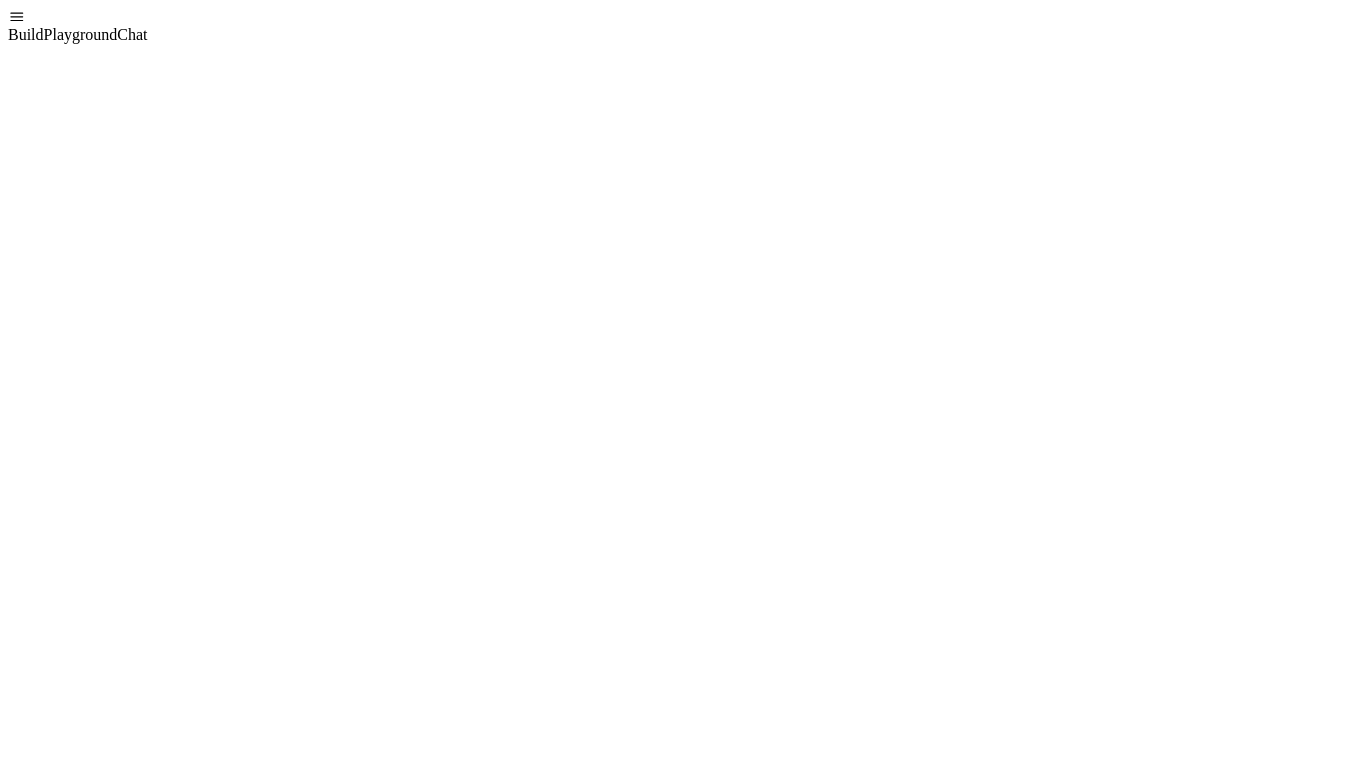
Test: NavBar › folds into a menu on a narrow screen that holds focus and closes on Escape or a choice
Expected: the button "Data" is not shown
Expected: the text "Status" is not shown
Click the button named "Show Site navigation": point(17, 17) [8, 8, 26, 26]
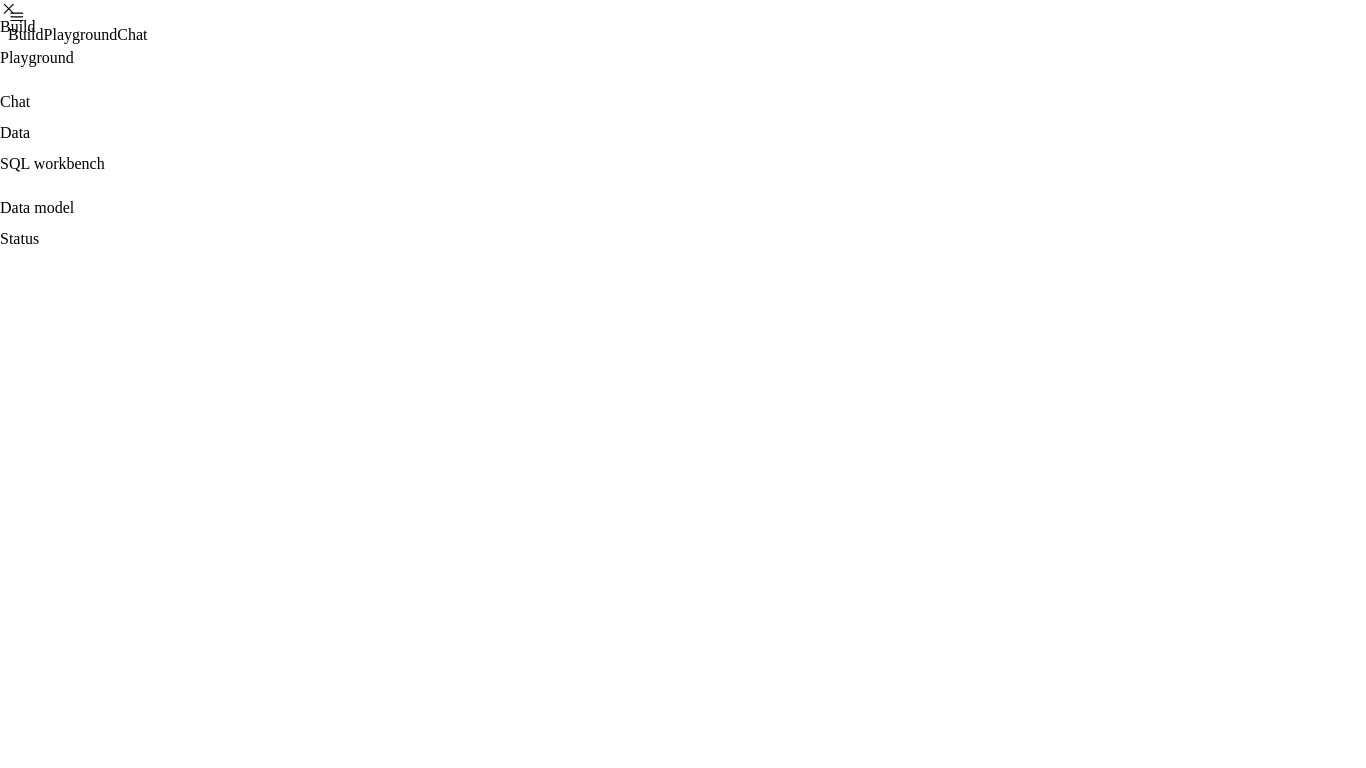
Expected: the dialog named "Site navigation" shows "Status", [0, 230, 39, 247]
Press Escape in the dialog named "Site navigation", box [0, 0, 1365, 247]
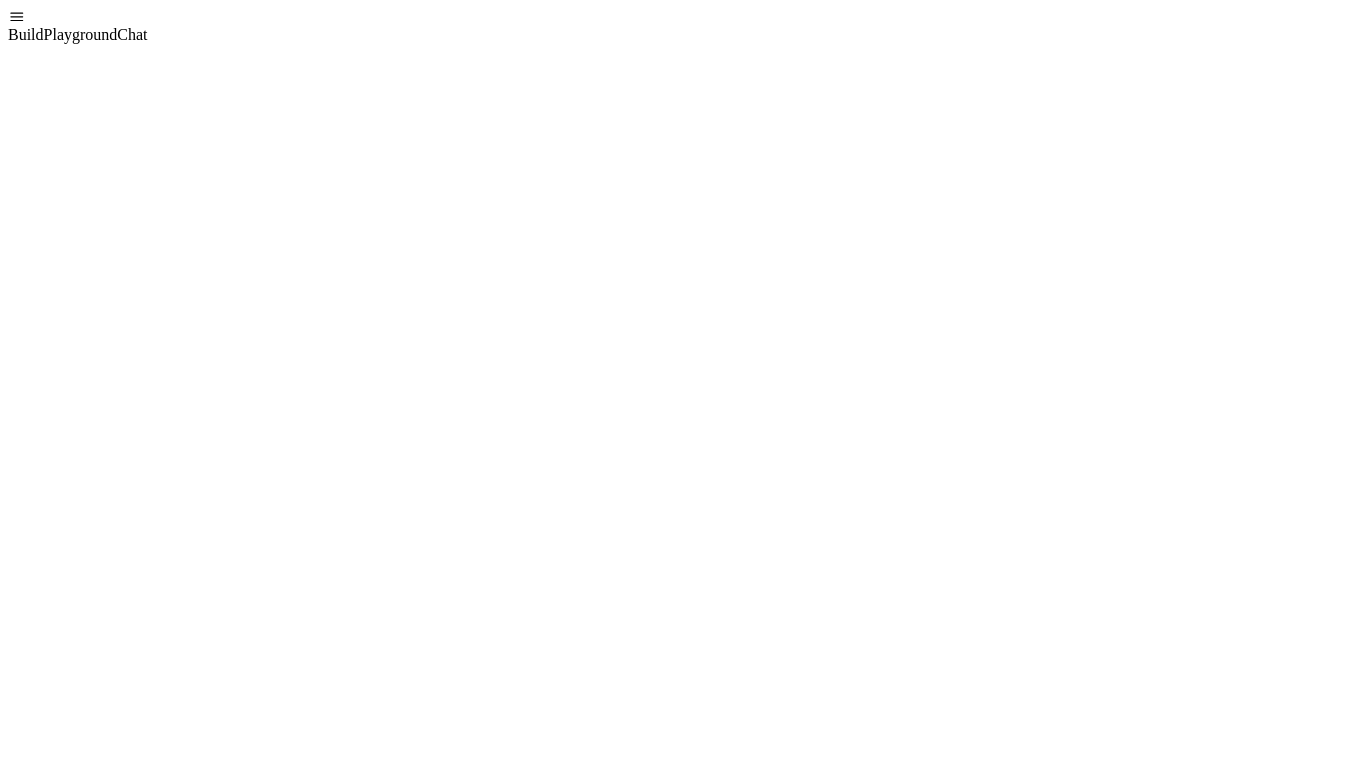
Expected: the dialog is gone
Click the button named "Show Site navigation": point(17, 17) [8, 8, 26, 26]
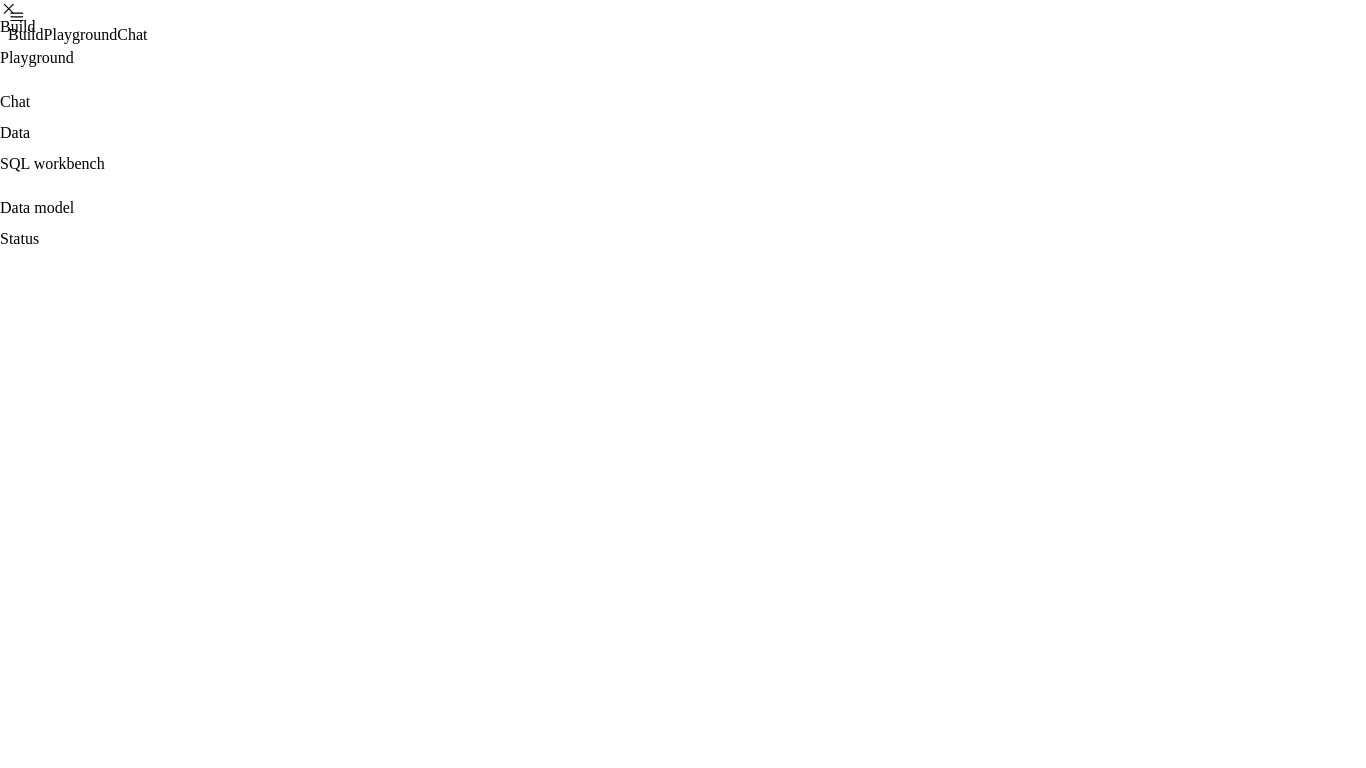
Click the button "SQL workbench": point(52, 163) [0, 142, 1365, 186]
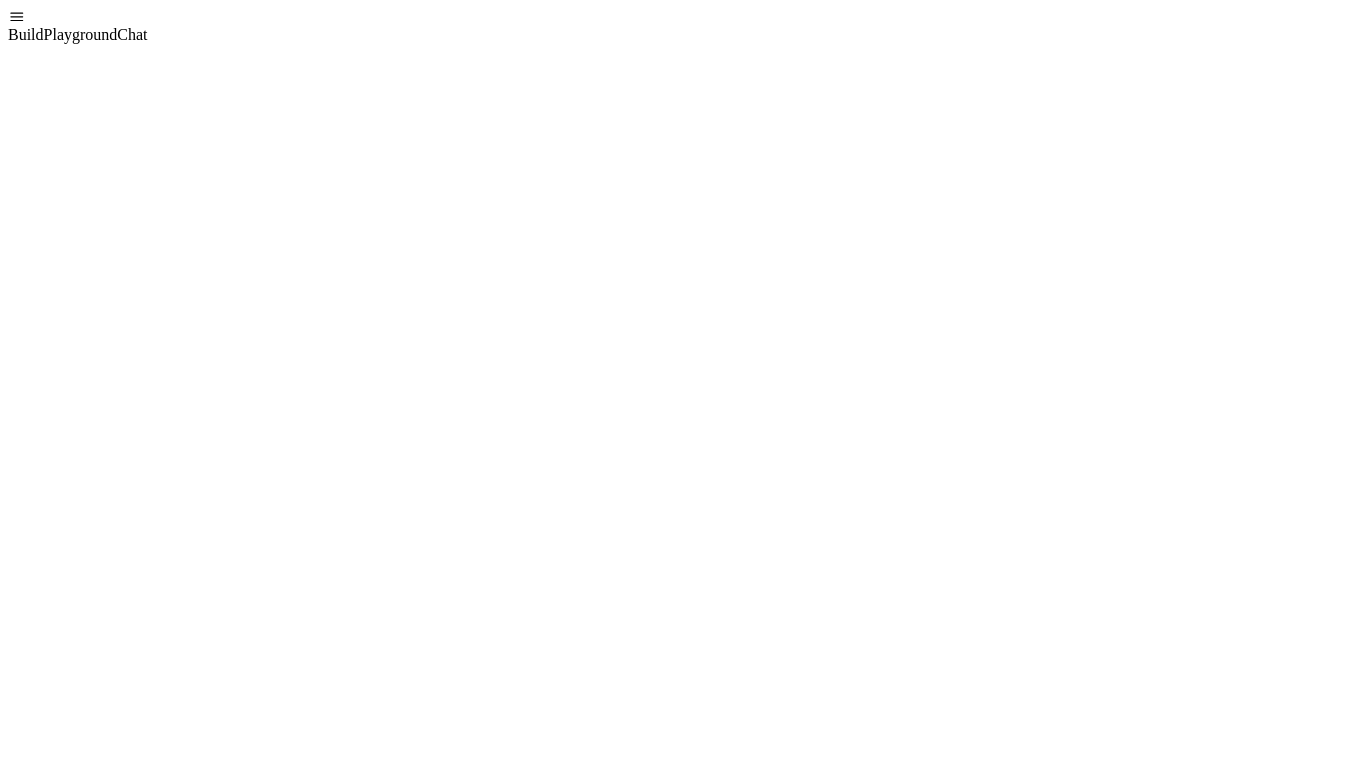
Expected: the dialog is gone
